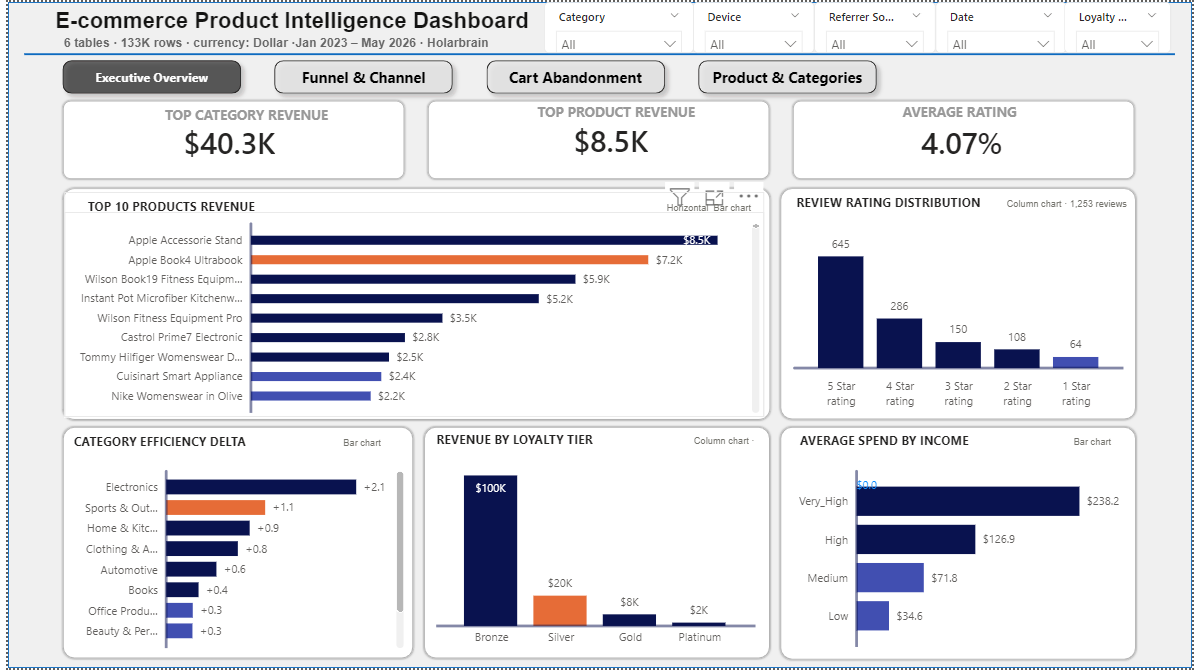

The dashboard page shown, as its layout file describes it:
{"tool":"powerbi","page":{"name":"Product & Categories","canvas":[1280,720],"ordinal":3},"visuals":[{"type":"shape","box":[0,0,1280,720],"z":0},{"type":"clusteredBarChart","fields":{"Category":["products_cleaned.product_name"],"Y":["purchases_cleaned.Total Revenue"]},"box":[61.2,226.8,756.7,222.4],"z":0,"group":"g4"},{"type":"clusteredColumnChart","fields":{"Category":["reviews_cleaned (1).rating"],"Y":["reviews_cleaned (1).Total Reviews"]},"box":[835.8,235.8,374.6,210.4],"z":0,"group":"g3"},{"type":"clusteredBarChart","fields":{"Category":["products_cleaned.category"],"Y":["sessions_cleaned.Revenue Per Session"]},"box":[66,495.3,366.8,209.1],"z":0,"group":"g6"},{"type":"clusteredBarChart","fields":{"Category":["users_cleaned.income_level"],"Y":["purchases_cleaned.Average Order Value"]},"box":[845,495.3,364.4,207.9],"z":0,"group":"g2"},{"type":"clusteredColumnChart","fields":{"Category":["users_cleaned.loyalty_tier"],"Y":["purchases_cleaned.Total Revenue"]},"box":[458.2,497,355.2,207.5],"z":0,"group":"g5"},{"type":"bookmarkNavigator","box":[50,54.3,898.6,54.3],"z":1000},{"type":"textbox","box":[847,201.2,386.4,48.9],"z":1000,"group":"g3"},{"type":"textbox","box":[81.9,205.4,736.1,40.4],"z":1000,"group":"g4"},{"type":"textbox","box":[458.6,456.1,354.6,40.4],"z":1000,"group":"g5"},{"type":"textbox","box":[847.4,458.6,362,36.7],"z":1000,"group":"g2"},{"type":"textbox","box":[66,459.8,364.4,40.4],"z":1000,"group":"g6"},{"type":"group","id":"g1","title":"Page layout","box":[17.1,50,1244.3,663.4],"z":2000},{"type":"textbox","box":[55,30,511.2,31.2],"z":3000},{"type":"textbox","box":[46.2,1.2,535,40],"z":4000},{"type":"shape","box":[17.1,50,1244.3,12.9],"z":4000,"group":"g1"},{"type":"shape","box":[55.7,103.9,374.3,90],"z":5000,"group":"g1"},{"type":"group","id":"g2","title":"Average spend","box":[845,458.6,364.4,244.6],"z":5000},{"type":"shape","box":[451.4,103.9,374.3,90],"z":6000,"group":"g1"},{"type":"group","id":"g3","title":"Rating","box":[835.8,201.2,397.6,245],"z":6000},{"type":"shape","box":[845.7,103.9,374.3,90],"z":7000,"group":"g1"},{"type":"group","id":"g4","title":"Top 10 product","box":[61.2,205.4,756.9,243.8],"z":7000},{"type":"shape","box":[55.7,198.1,770,255.7],"z":8000,"group":"g1"},{"type":"group","id":"g5","title":"Revenue by loyalty tier","box":[458.2,456.1,355.2,248.4],"z":8000},{"type":"shape","box":[831.3,198.5,389.6,255.2],"z":9000,"group":"g1"},{"type":"group","id":"g6","title":"Category efficiency delta","box":[66,459.8,366.8,244.6],"z":9000},{"type":"cardVisual","fields":{"Data":["reviews_cleaned (1).Average Rating"]},"box":[957.5,108.8,181,81.9],"z":10000},{"type":"shape","box":[56.2,457.3,384,255.6],"z":10000,"group":"g1"},{"type":"textbox","box":[563.7,103.9,238.5,39.1],"z":11000},{"type":"shape","box":[446.3,457.3,379.1,255.6],"z":11000,"group":"g1"},{"type":"textbox","box":[160.2,106.4,238.5,39.1],"z":12000},{"type":"shape","box":[831.3,456.7,389.6,256.7],"z":12000,"group":"g1"},{"type":"textbox","box":[957.5,103.9,238.5,39.1],"z":13000},{"type":"cardVisual","fields":{"Data":["products_cleaned.Top Product Revenue"]},"box":[582.1,107.6,181,81.9],"z":14000},{"type":"cardVisual","fields":{"Data":["purchases_cleaned.Total Revenue"]},"box":[160.2,110.1,181,81.9],"z":15000},{"type":"slicer","fields":{"Values":["products_cleaned.category","products_cleaned.subcategory"]},"box":[579.6,0,161.4,55],"z":16000},{"type":"slicer","fields":{"Values":["sessions_cleaned.device_type"]},"box":[741,0,130.8,55],"z":17000},{"type":"slicer","fields":{"Values":["sessions_cleaned.referrer_source"]},"box":[871.9,0,130.8,55],"z":18000},{"type":"slicer","fields":{"Values":["purchases_cleaned.order_date.Variation.Date Hierarchy.Year","purchases_cleaned.order_date.Variation.Date Hierarchy.Month"]},"box":[1002.7,0,141.8,55],"z":19000},{"type":"slicer","fields":{"Values":["users_cleaned.loyalty_tier"]},"box":[1142.1,0,114.9,55],"z":20000}]}

Visuals, with their boxes in screenshot pixels (x1, y1, x2, y2), scaled from the page's 1280x720 canvas onto the 1197x672 screenshot:
shape: locate(0, 0, 1196, 671)
clusteredBarChart - products_cleaned.product_name x purchases_cleaned.Total Revenue: locate(57, 212, 765, 419)
clusteredColumnChart - reviews_cleaned (1).rating x reviews_cleaned (1).Total Reviews: locate(782, 220, 1132, 416)
clusteredBarChart - products_cleaned.category x sessions_cleaned.Revenue Per Session: locate(62, 462, 405, 657)
clusteredBarChart - users_cleaned.income_level x purchases_cleaned.Average Order Value: locate(790, 462, 1131, 656)
clusteredColumnChart - users_cleaned.loyalty_tier x purchases_cleaned.Total Revenue: locate(428, 464, 761, 658)
bookmarkNavigator: locate(47, 51, 887, 101)
textbox: locate(792, 188, 1153, 233)
textbox: locate(77, 192, 765, 229)
textbox: locate(429, 426, 760, 463)
textbox: locate(792, 428, 1131, 462)
textbox: locate(62, 429, 402, 467)
"Page layout" group: locate(16, 47, 1180, 666)
textbox: locate(51, 28, 529, 57)
textbox: locate(43, 1, 544, 38)
shape: locate(16, 47, 1180, 59)
shape: locate(52, 97, 402, 181)
"Average spend" group: locate(790, 428, 1131, 656)
shape: locate(422, 97, 772, 181)
"Rating" group: locate(782, 188, 1153, 416)
shape: locate(791, 97, 1141, 181)
"Top 10 product" group: locate(57, 192, 765, 419)
shape: locate(52, 185, 772, 424)
"Revenue by loyalty tier" group: locate(428, 426, 761, 658)
shape: locate(777, 185, 1142, 423)
"Category efficiency delta" group: locate(62, 429, 405, 657)
cardVisual - reviews_cleaned (1).Average Rating: locate(895, 102, 1065, 178)
shape: locate(53, 427, 412, 665)
textbox: locate(527, 97, 750, 133)
shape: locate(417, 427, 772, 665)
textbox: locate(150, 99, 373, 136)
shape: locate(777, 426, 1142, 666)
textbox: locate(895, 97, 1118, 133)
cardVisual - products_cleaned.Top Product Revenue: locate(544, 100, 714, 177)
cardVisual - purchases_cleaned.Total Revenue: locate(150, 103, 319, 179)
slicer - products_cleaned.category x products_cleaned.subcategory: locate(542, 0, 693, 51)
slicer - sessions_cleaned.device_type: locate(693, 0, 815, 51)
slicer - sessions_cleaned.referrer_source: locate(815, 0, 938, 51)
slicer - purchases_cleaned.order_date.Variation.Date Hierarchy.Year x purchases_cleaned.order_date.Variation.Date Hierarchy.Month: locate(938, 0, 1070, 51)
slicer - users_cleaned.loyalty_tier: locate(1068, 0, 1175, 51)
